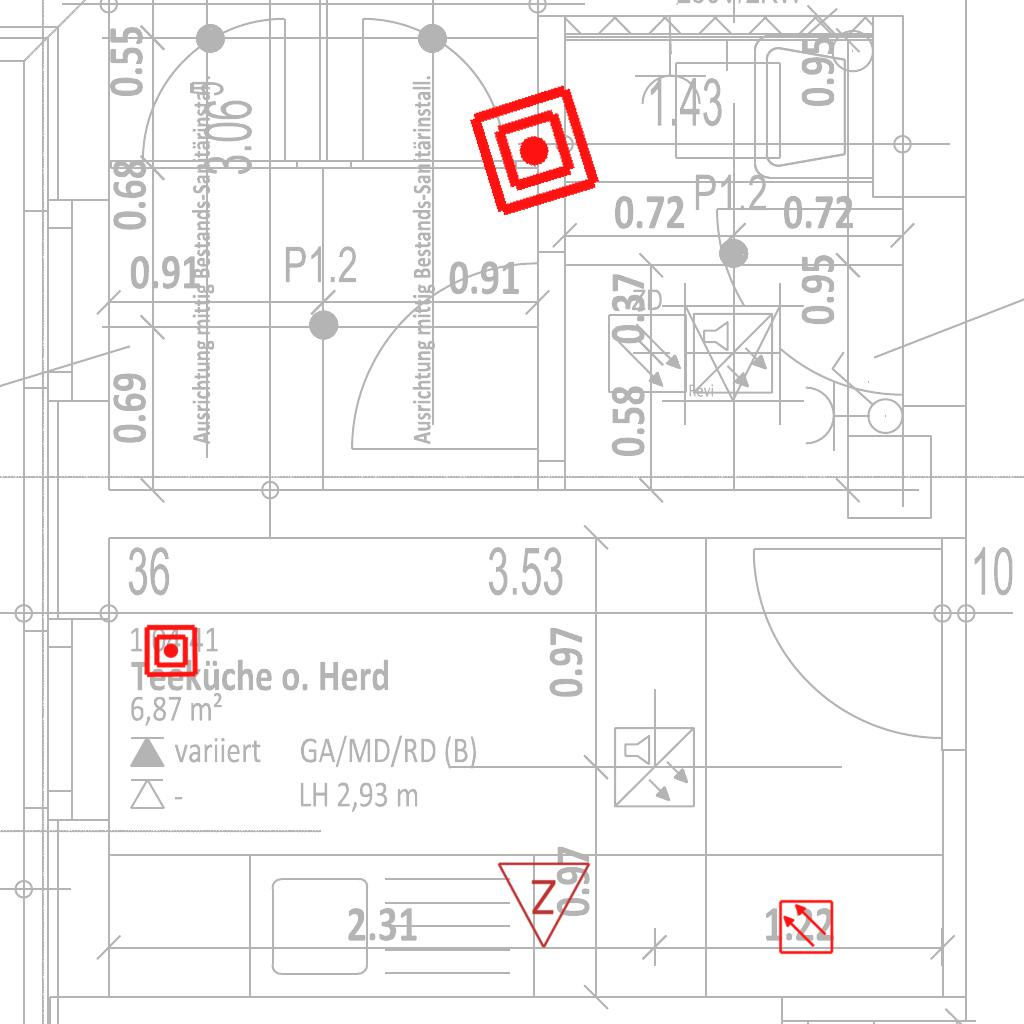NAM-Nichtautomatischer_Melder: (463, 79, 606, 222), (143, 623, 199, 679)
RMO_Rauchmelder_optischer: (778, 899, 834, 955)
Zimmersignalleuchte: (496, 855, 594, 955)
